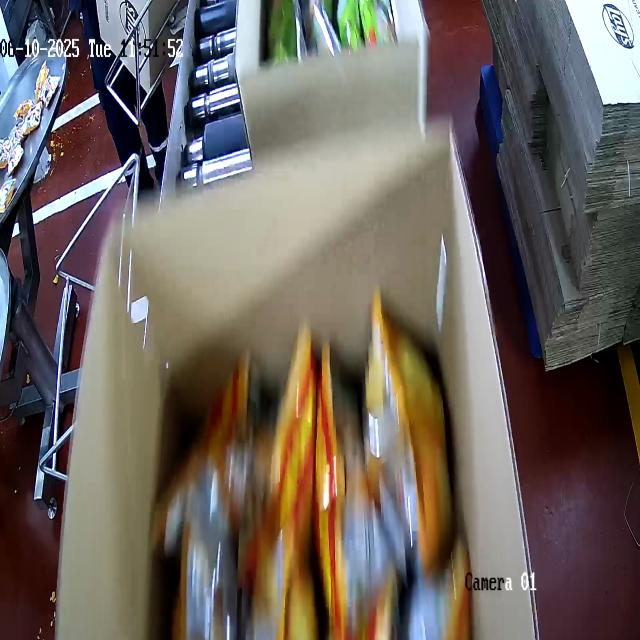FRENCH_CHEESE: (162, 316, 469, 640)
YOGURT_HERB: (260, 0, 386, 70)
